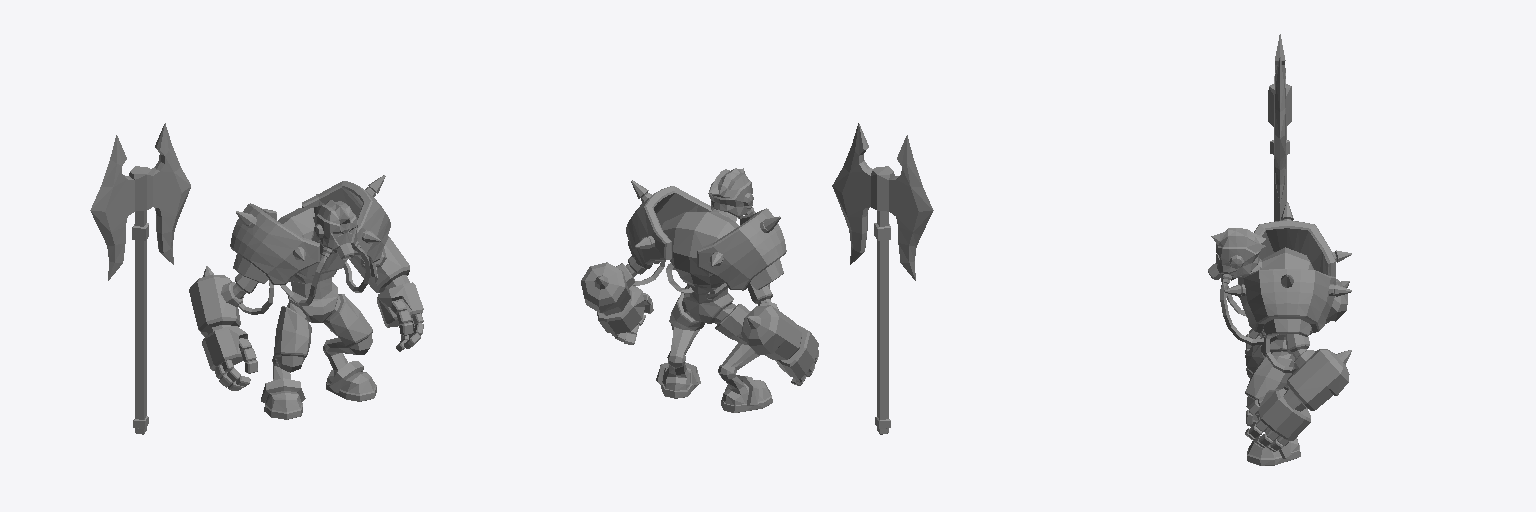
The model's file is Robot_Type_E_P5_OBJ.obj.
3 renders of one model, left to right at view 1: azimuth 30°, elevation 25°; view 2: azimuth 150°, elevation 25°; view 3: azimuth 270°, elevation 25°, orthographic.
Parts seen in each view (by area): view 1: Robot_Type_E_P5_1, Robot_Type_E_P5_4, Robot_Type_E_P5_2, Robot_Type_E_P5_3; view 2: Robot_Type_E_P5_1, Robot_Type_E_P5_4, Robot_Type_E_P5_3, Robot_Type_E_P5_2; view 3: Robot_Type_E_P5_1, Robot_Type_E_P5_4, Robot_Type_E_P5_3.
Boxes of the visible parts, x1,y1,x2,y2 form: Robot_Type_E_P5_1: [189, 175, 409, 419]; Robot_Type_E_P5_4: [90, 123, 190, 434]; Robot_Type_E_P5_2: [202, 326, 257, 390]; Robot_Type_E_P5_3: [377, 282, 423, 351]; Robot_Type_E_P5_1: [581, 168, 801, 412]; Robot_Type_E_P5_4: [832, 123, 933, 434]; Robot_Type_E_P5_3: [597, 285, 653, 344]; Robot_Type_E_P5_2: [775, 325, 818, 385]; Robot_Type_E_P5_1: [1208, 202, 1351, 465]; Robot_Type_E_P5_4: [1268, 34, 1291, 221]; Robot_Type_E_P5_3: [1245, 388, 1310, 451].
Bounding box in the file's own units: 234 × 211 × 88.5.